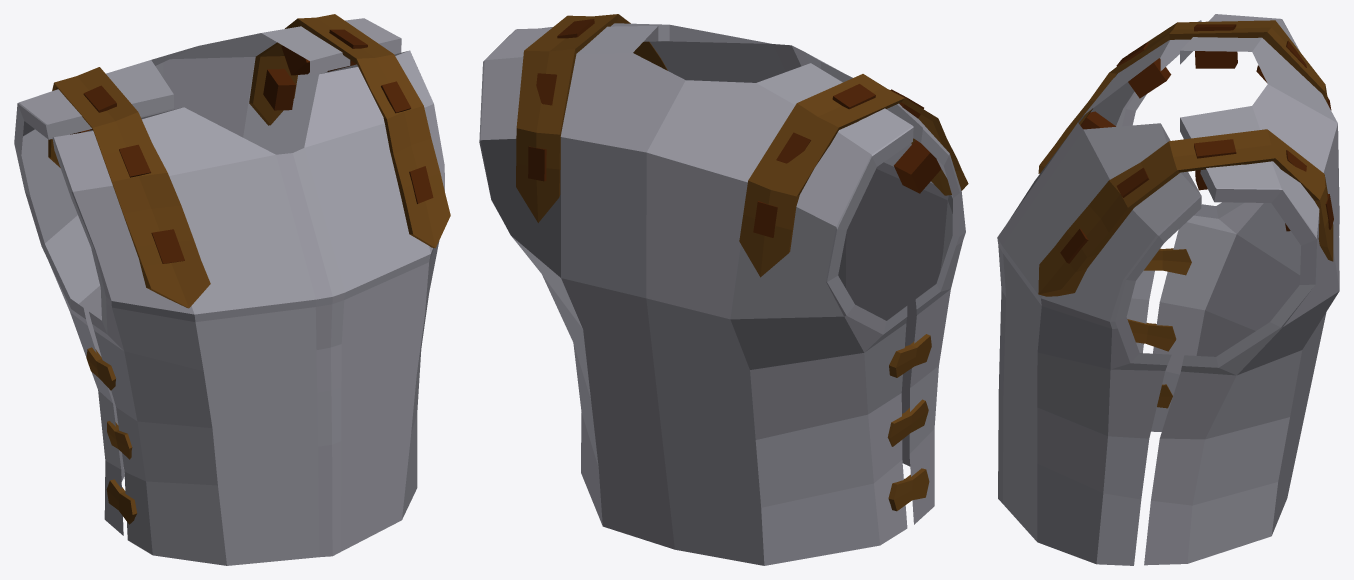
File: Icon 5.fbx
3 views of the same model, side by side, from view 1: azimuth 30°, elevation 25°; view 2: azimuth 150°, elevation 25°; view 3: azimuth 270°, elevation 25° (orthographic). The views are drawn at different scales.
Parts seen in each view (by area): view 1: Iron Chest; view 2: Iron Chest; view 3: Iron Chest.
Part boxes in pixels (x1,y1,x2,y2): Iron Chest: [14, 14, 450, 565]; Iron Chest: [479, 14, 968, 565]; Iron Chest: [997, 14, 1339, 565].
Bounding box in the file's own units: 46.32 × 51.35 × 37.75.
